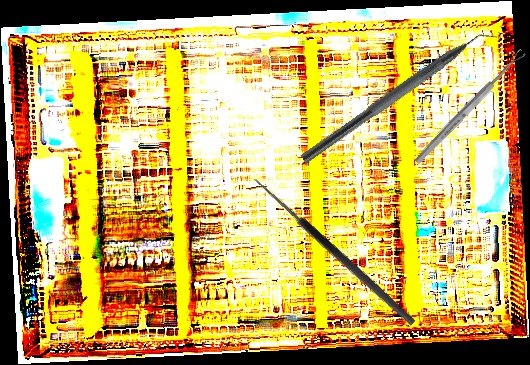Chopper: (299, 18, 505, 178)
Hook Surgical: (243, 174, 418, 335)
Surgical Spoon: (412, 48, 528, 166)
